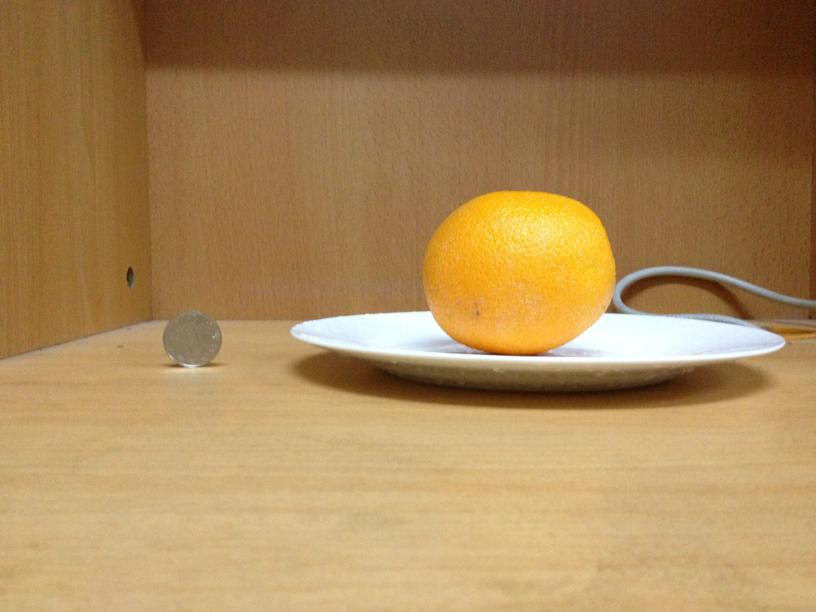coin: (160, 312, 222, 364)
orange: (417, 185, 617, 350)
